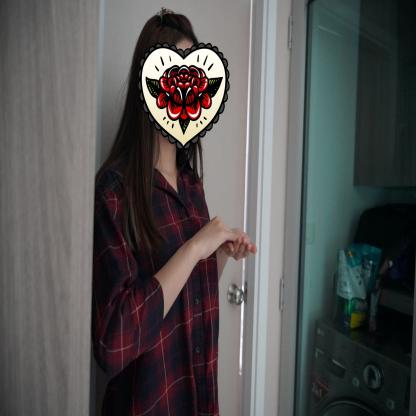Love: (184, 212, 261, 268)
